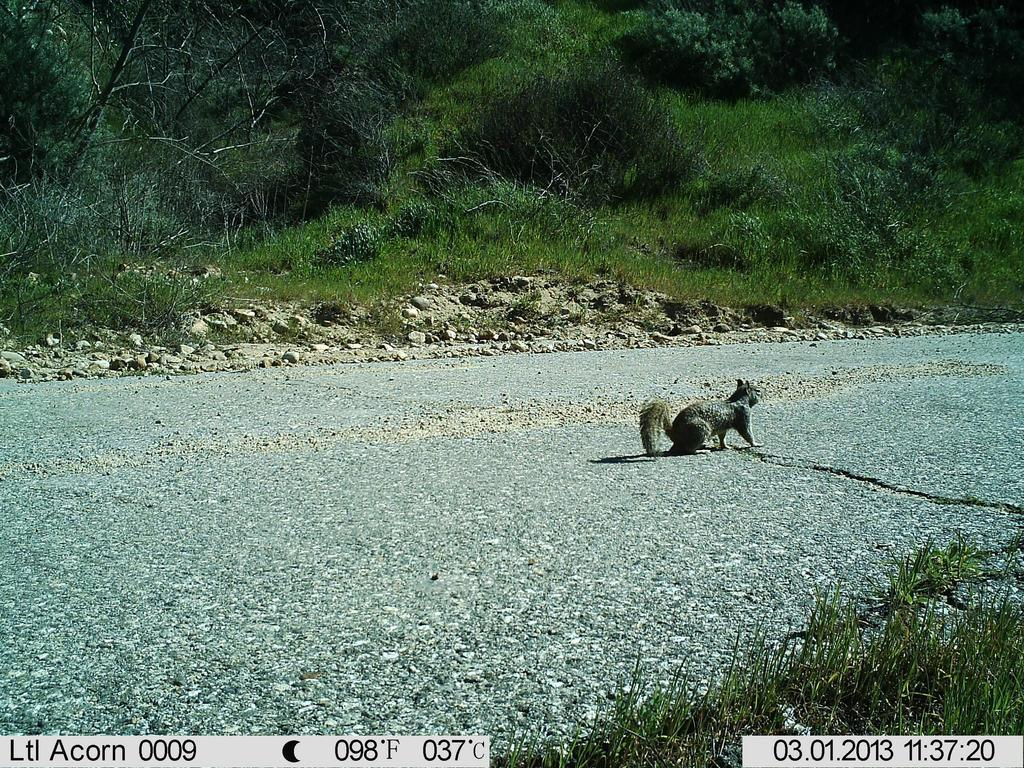squirrel: (620, 368, 785, 469)
